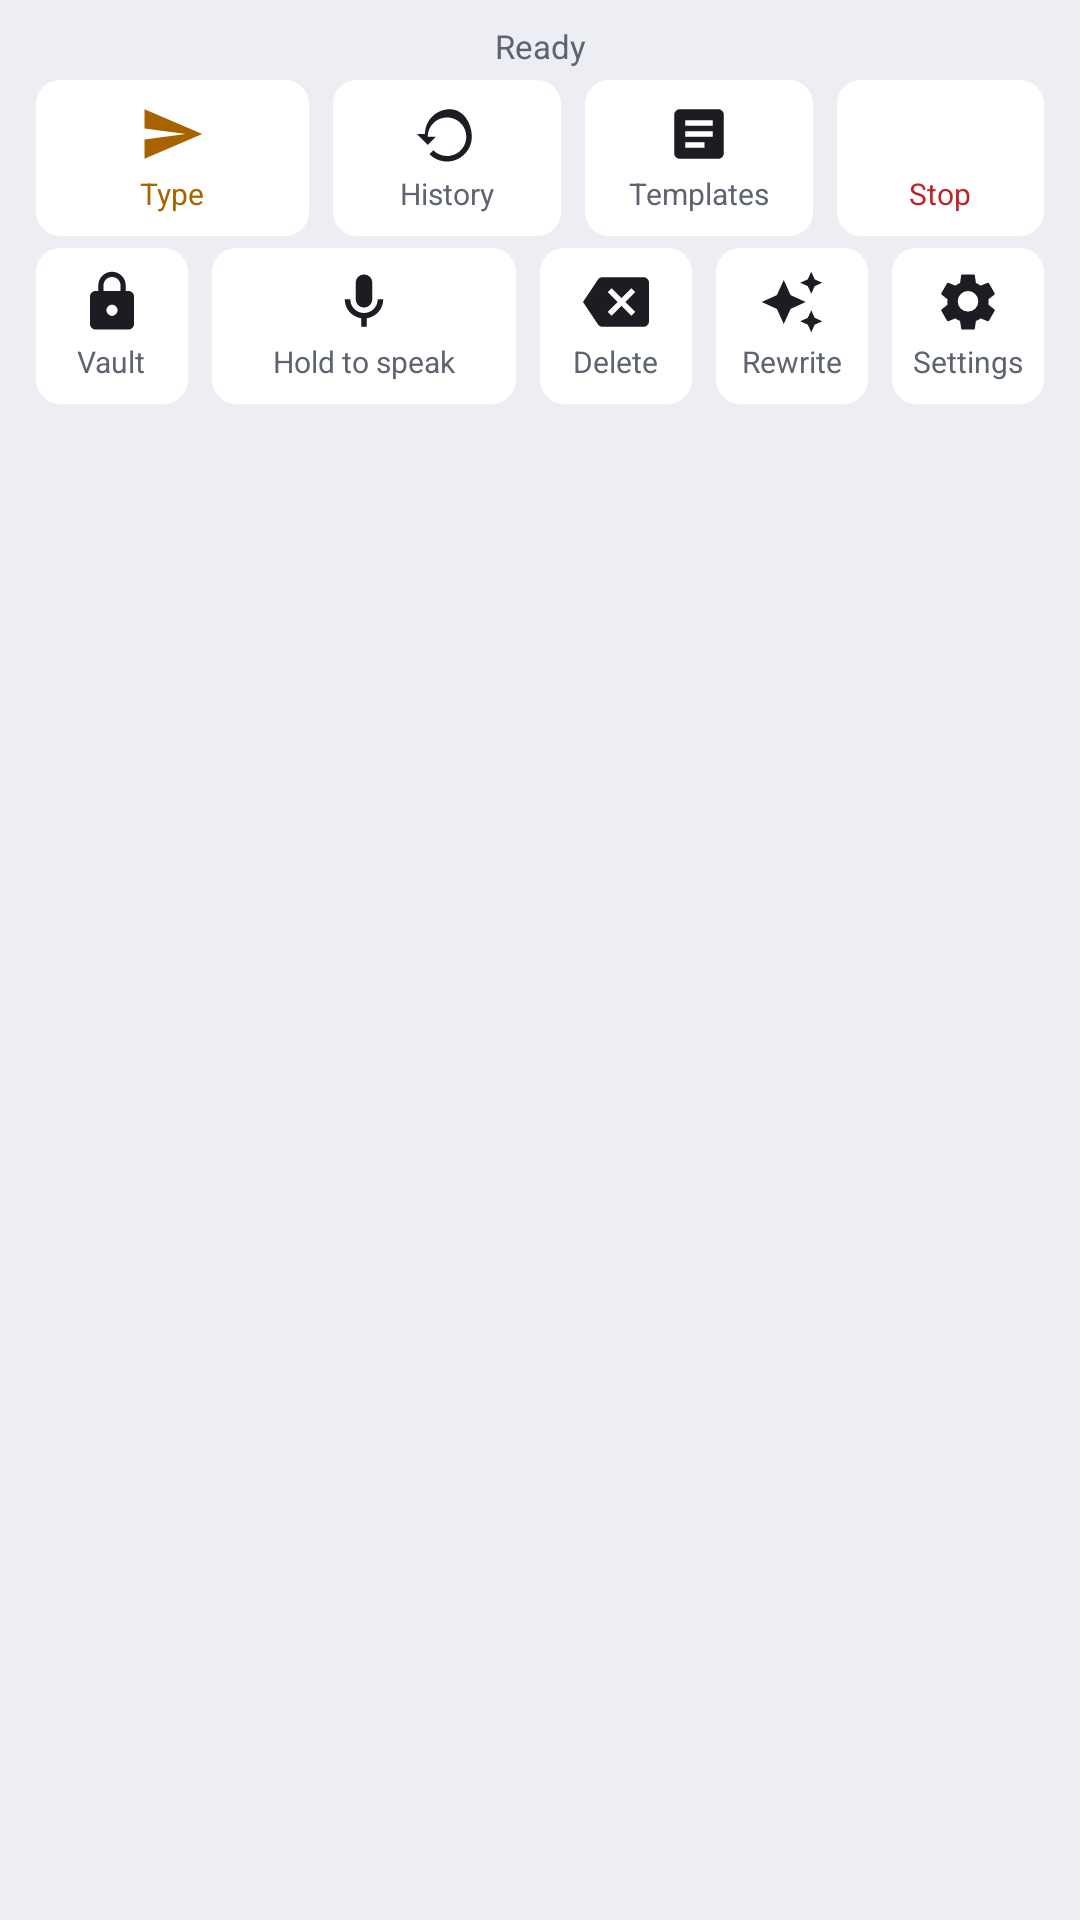

Locate icon controls on the screen. Image size 1080 × 1920, boxes as rect(x1, y1, x2, y2).
lock: rect(90, 271, 134, 330)
mic: rect(344, 274, 384, 327)
send: rect(144, 109, 202, 159)
